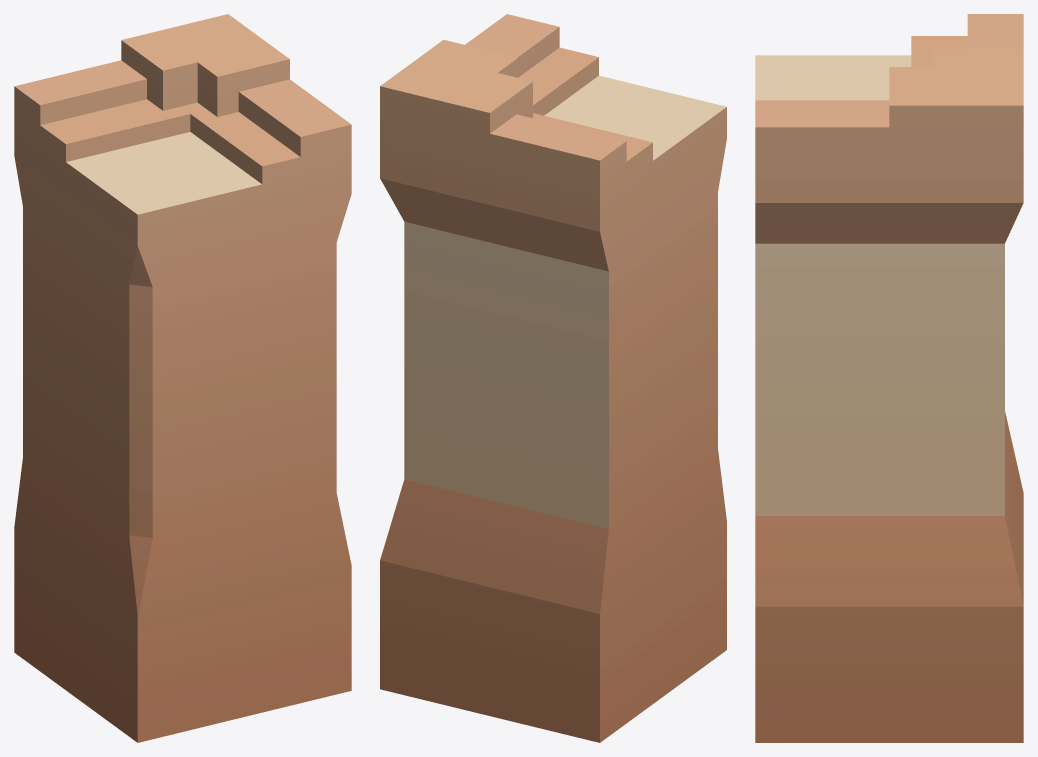
The model's file is kenney-castle-wall-narrow-corner.glb.
The picture shows the model from 3 angles, left to right: view 1: azimuth 30°, elevation 25°; view 2: azimuth 150°, elevation 25°; view 3: azimuth 270°, elevation 25°; orthographic projection. The views are drawn at different scales.
Visible parts, largest first — view 1: wall-narrow-corner; view 2: wall-narrow-corner; view 3: wall-narrow-corner.
Part boxes in pixels (x1=…): wall-narrow-corner: x1=14, y1=14, x2=351, y2=742; wall-narrow-corner: x1=380, y1=14, x2=726, y2=742; wall-narrow-corner: x1=755, y1=14, x2=1023, y2=742.
Bounding box in the file's own units: 0.4999 × 1.31 × 0.4999.
1 material, 1 textured.
